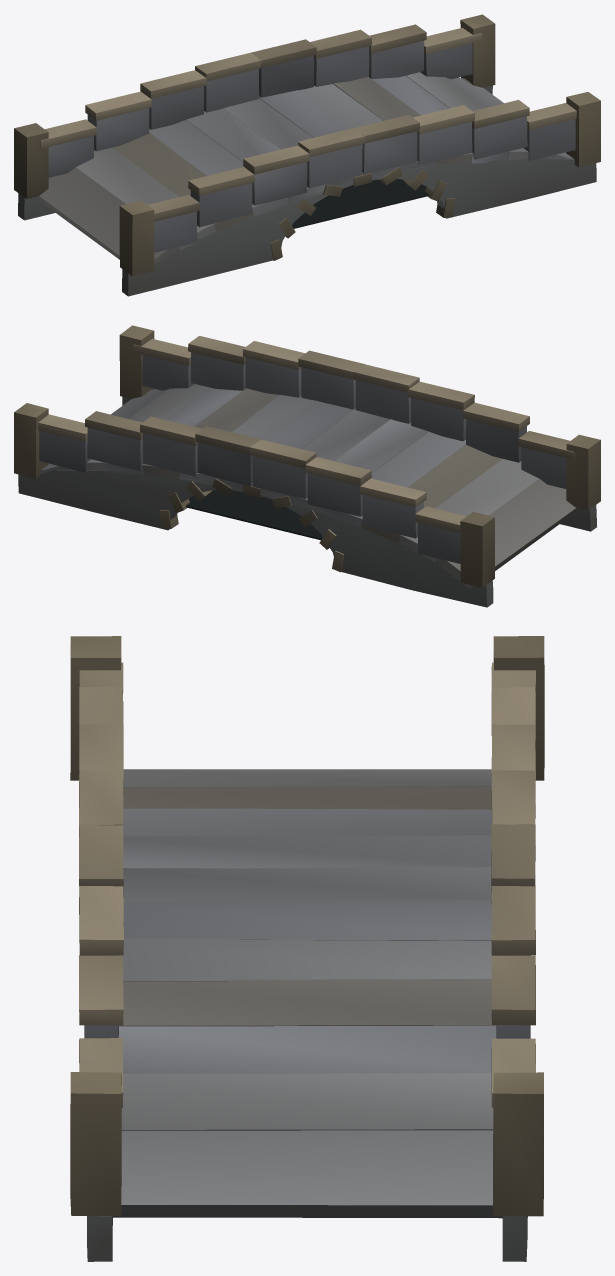
File: ph_prop_v_bridge.glb
3 renders of one model, top to bottom at view 1: azimuth 30°, elevation 25°; view 2: azimuth 150°, elevation 25°; view 3: azimuth 270°, elevation 25°, orthographic. The views are drawn at different scales.
Parts seen in each view (by area): view 1: ph_prop_v_bridge; view 2: ph_prop_v_bridge; view 3: ph_prop_v_bridge.
Part boxes in pixels (x1=…): ph_prop_v_bridge: x1=14, y1=14, x2=600, y2=296; ph_prop_v_bridge: x1=14, y1=325, x2=600, y2=607; ph_prop_v_bridge: x1=70, y1=636, x2=544, y2=1261.
Bounding box in the file's own units: 6.41 × 1.37 × 2.81.
